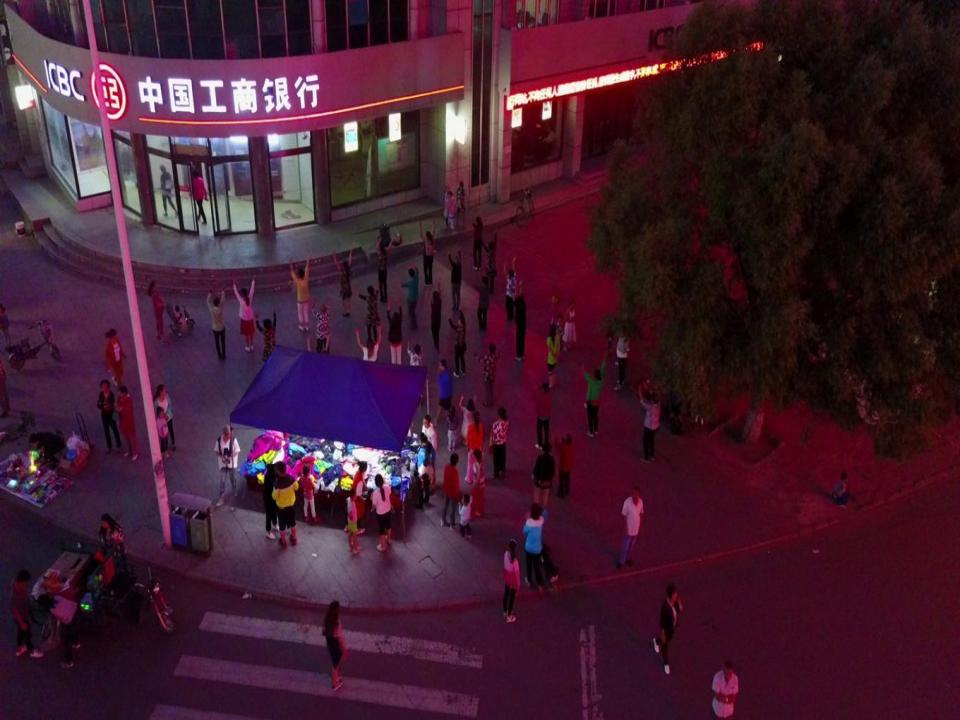car: (839, 305, 911, 426)
